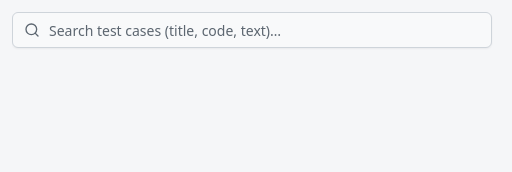
Scenario: GlobalSearch › opens the clicked match in its own suite
Type "power" into the dropdown named "Search the test case library" at (252, 30), box 12,12 -> 492,48
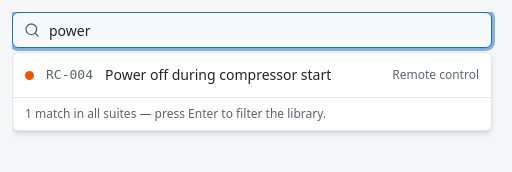
Click the option "RC-004 Power off during compressor start Remote control" at (252, 75), box 13,57 -> 491,93
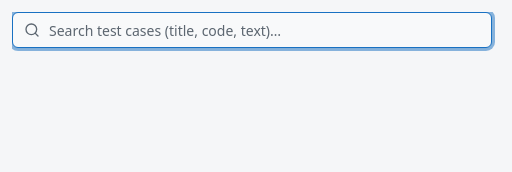
Check: the dropdown named "Search the test case library" is empty, box 12,12 -> 492,48
Check: the list is gone
